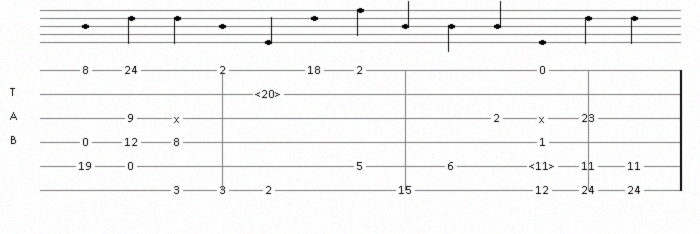0: (82, 136, 93, 148), (127, 160, 138, 172), (539, 64, 550, 76)
1: (539, 136, 550, 148)
11: (581, 160, 599, 172), (627, 160, 645, 172)
12: (124, 136, 142, 148), (535, 184, 553, 196)
15: (398, 184, 416, 196)
18: (307, 64, 325, 76)
19: (78, 160, 96, 172)
2: (219, 64, 230, 76), (265, 184, 276, 196), (356, 64, 367, 76), (493, 112, 504, 124)
23: (581, 112, 599, 124)
24: (124, 64, 142, 76), (581, 184, 599, 196), (627, 184, 645, 196)
3: (173, 184, 184, 196), (219, 184, 230, 196)
5: (356, 160, 367, 172)
6: (447, 160, 458, 172)
8: (82, 64, 93, 76), (173, 136, 184, 148)
9: (127, 112, 138, 124)
harmonic: (255, 88, 285, 100), (529, 160, 559, 172)
x: (174, 113, 184, 123), (539, 113, 549, 123)
